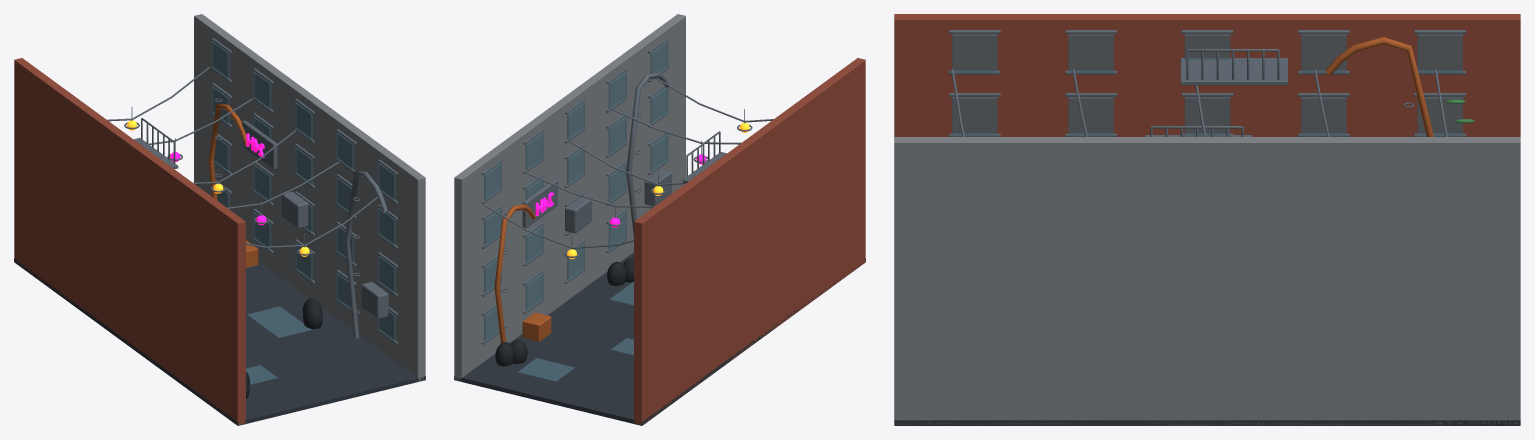
The model's file is urban_neon_alley.glb.
3 views of the same model, side by side, from view 1: azimuth 30°, elevation 25°; view 2: azimuth 150°, elevation 25°; view 3: azimuth 270°, elevation 25° (orthographic). The views are drawn at different scales.
Visible parts, largest first — view 1: Alley_LeftBuilding, Alley_RightBuilding, Alley_Street, UtilityPipe_2, Puddle_2, ACUnit_1, ACUnit_2, NeonSign_Magenta_Back, UtilityPipe_3, Right_Window_4_5, Right_Window_4_2, Right_Window_4_4 (+14 smaller); view 2: Alley_LeftBuilding, Alley_RightBuilding, Alley_Street, UtilityPipe_2, UtilityPipe_3, ACUnit_2, NeonSign_Magenta_Back, Puddle_4, DeliveryCrate_3, ACUnit_1, Right_Window_1_4, Right_Window_4_2 (+16 smaller); view 3: Alley_RightBuilding, Alley_LeftBuilding, Alley_Street, FireEscape_Platform_3, Left_Window_4_1, Left_Window_4_2, Left_Window_4_5, Left_Window_3_1, Left_Window_3_4, Left_Window_3_2, Left_Window_4_4, Left_Window_3_3 (+3 smaller).
Part boxes in pixels (box(x1,y1,x2,y2)): Alley_LeftBuilding: box(14, 58, 245, 425); Alley_RightBuilding: box(194, 14, 425, 381); Alley_Street: box(14, 258, 425, 425); UtilityPipe_2: box(344, 170, 387, 338); Puddle_2: box(247, 306, 311, 337); ACUnit_1: box(361, 282, 388, 318); ACUnit_2: box(281, 191, 308, 228); NeonSign_Magenta_Back: box(242, 120, 277, 169); UtilityPipe_3: box(208, 103, 246, 200); Right_Window_4_5: box(211, 41, 229, 79); Right_Window_4_2: box(336, 132, 354, 170); Right_Window_4_4: box(253, 71, 271, 109); Alley_LeftBuilding: box(634, 58, 865, 425); Alley_RightBuilding: box(454, 14, 685, 380); Alley_Street: box(454, 252, 865, 425); UtilityPipe_2: box(626, 72, 669, 237); UtilityPipe_3: box(494, 204, 535, 343); ACUnit_2: box(565, 196, 591, 233); NeonSign_Magenta_Back: box(522, 179, 557, 228); Puddle_4: box(518, 358, 574, 381); DeliveryCrate_3: box(522, 312, 551, 341); ACUnit_1: box(644, 169, 671, 205); Right_Window_1_4: box(525, 273, 543, 311); Right_Window_4_2: box(608, 71, 626, 109); Alley_RightBuilding: box(894, 137, 1520, 425); Alley_LeftBuilding: box(894, 14, 1520, 136); Alley_Street: box(894, 420, 1520, 425); FireEscape_Platform_3: box(1180, 58, 1287, 85); Left_Window_4_1: box(952, 34, 997, 72); Left_Window_4_2: box(1068, 34, 1113, 72); Left_Window_4_5: box(1417, 34, 1462, 72); Left_Window_3_1: box(952, 97, 997, 134); Left_Window_3_4: box(1301, 97, 1346, 134); Left_Window_3_2: box(1068, 97, 1113, 134); Left_Window_4_4: box(1301, 34, 1346, 72); Left_Window_3_3: box(1184, 97, 1230, 134).
Bounding box in the file's own units: 6.8 × 7.06 × 14.
